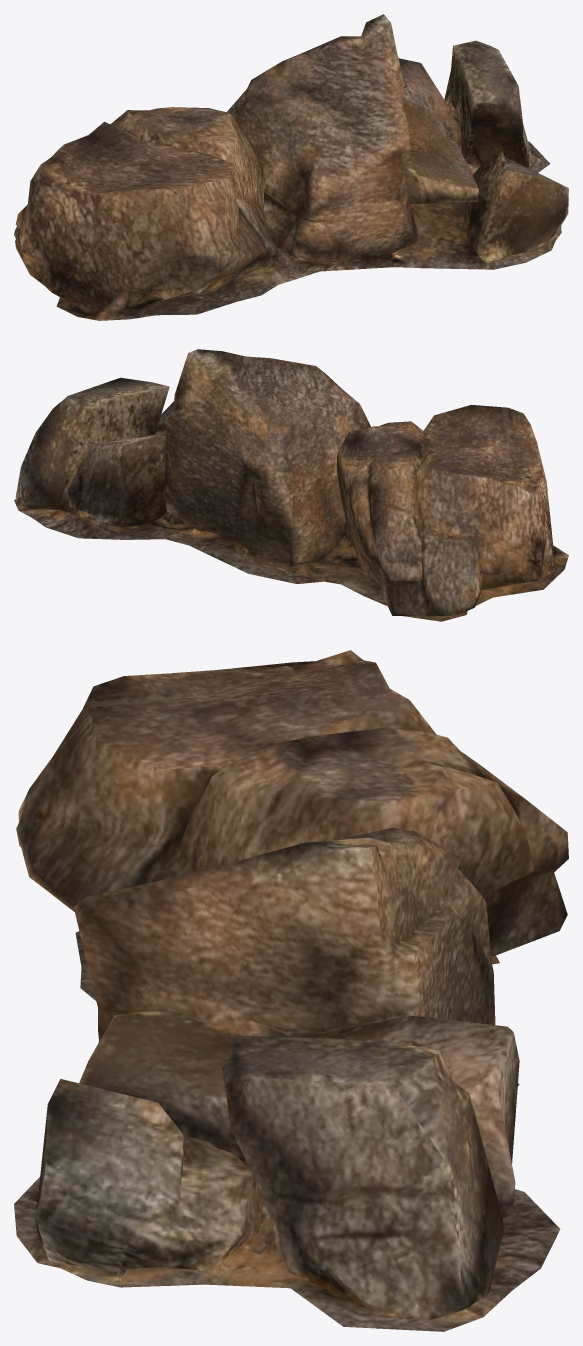
The model's file is namaqualand_boulder_02.glb.
3 renders of one model, top to bottom at view 1: azimuth 30°, elevation 25°; view 2: azimuth 150°, elevation 25°; view 3: azimuth 270°, elevation 25°, orthographic. The views are drawn at different scales.
Visible parts, largest first — view 1: boulder_02; view 2: boulder_02; view 3: boulder_02.
Part boxes in pixels (left/top/right/bottom): boulder_02: left=14, top=14, right=568, bottom=320; boulder_02: left=14, top=349, right=568, bottom=621; boulder_02: left=14, top=650, right=568, bottom=1331.
Bounding box in the file's own units: 2.51 × 0.8562 × 1.23.
Materials: 1 (1 with a texture image).
